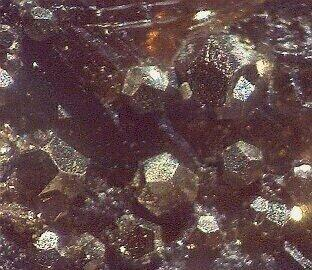pyrite: (131, 152, 201, 218), (193, 34, 272, 82), (198, 140, 265, 190), (122, 66, 193, 100), (34, 231, 105, 262), (44, 138, 89, 176), (230, 74, 256, 102), (196, 210, 220, 234), (150, 226, 164, 256), (176, 42, 196, 62), (117, 215, 137, 233)
